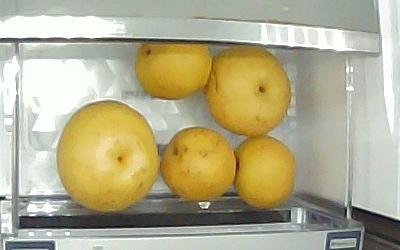pear: (57, 100, 160, 215), (206, 44, 292, 136), (158, 126, 237, 201), (233, 136, 297, 210), (136, 43, 211, 101)
